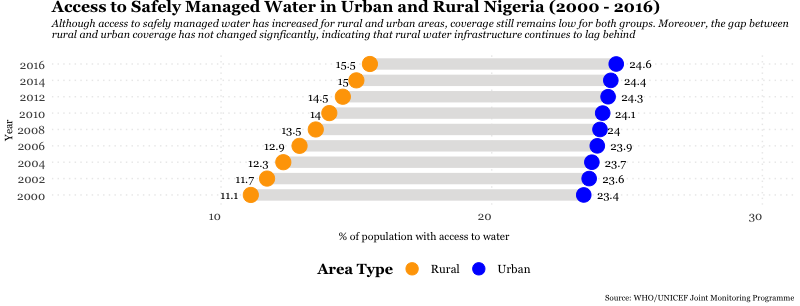

The dashboard page shown, as its layout file describes it:
{"tool":"tableau","page":{"name":"Dashboard 1","canvas":[1000,800],"ordinal":0},"visuals":[{"type":"title","box":[8,8,984,91]},{"type":"legend","title":"Sheet 1","param":"[federated.1na7zu8053wj9l1d4gcmw0pjrjri].[usr:Calculation_4790281937887186945:nk","box":[8,99,984,44.5]},{"type":"worksheet","title":"Sheet 1","mark":"Automatic","box":[8,143.5,984,616.5]},{"type":"text","box":[8,760,984,32]}]}

Visuals, with their boxes on the page's 1000x800 design canvas (x1, y1, x2, y2). These are canvas units, not pixel positions in the 800x306 screenshot, which may show the page scaled, cropped or inside an application window:
title: bbox(8, 8, 992, 99)
"Sheet 1" legend: bbox(8, 99, 992, 144)
"Sheet 1" worksheet: bbox(8, 144, 992, 760)
text: bbox(8, 760, 992, 792)
